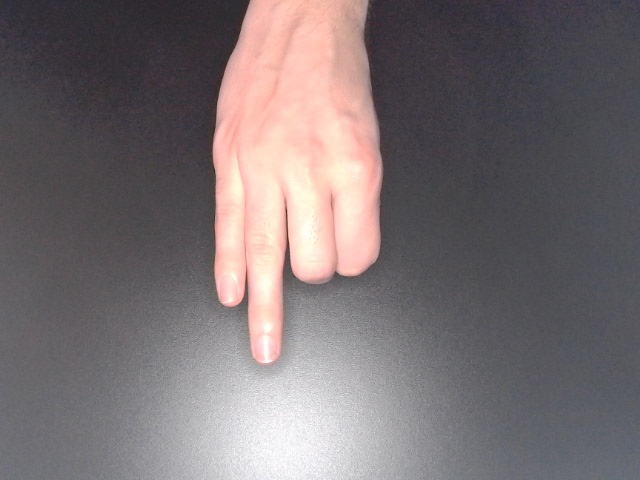n: (205, 2, 388, 369)
